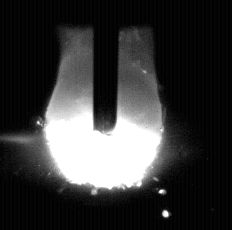arame: (94, 0, 119, 133)
poca: (43, 0, 164, 230)
